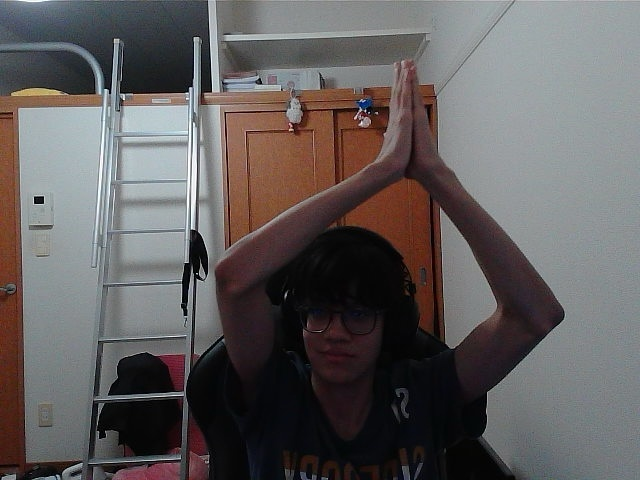pray: (396, 72, 418, 162)
